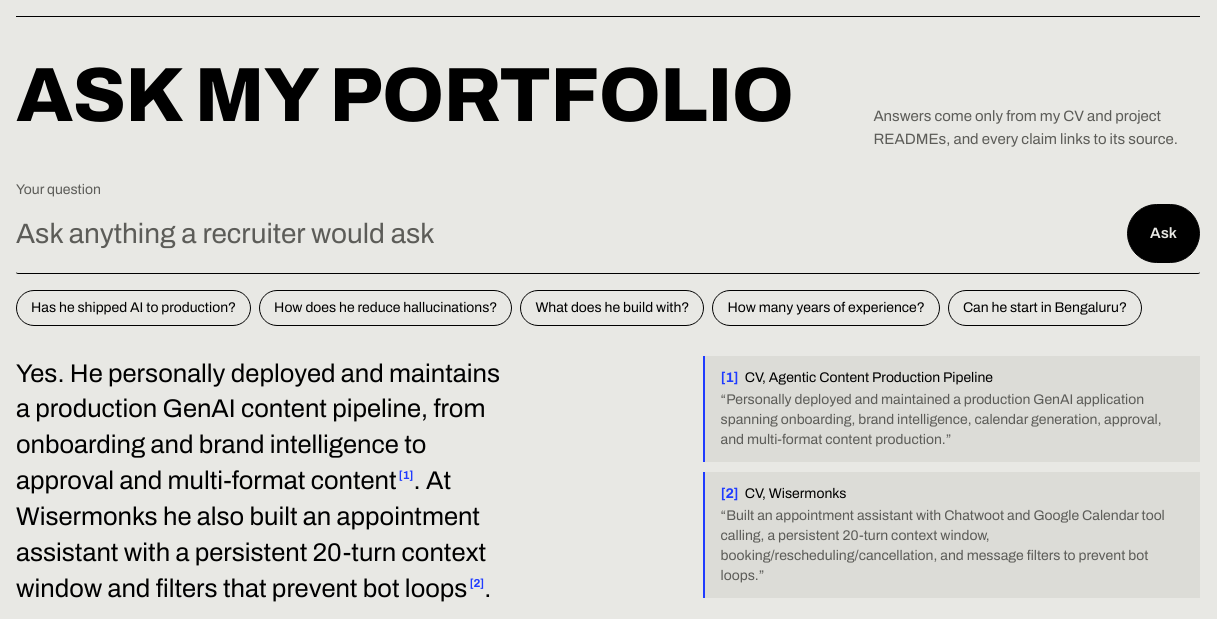
Ask my portfolio › shows the fallback and no sources for an unknown question
Type "What is his favourite colour?" into the field labelled "Your question" at (567, 233), box [16,204,1117,263]
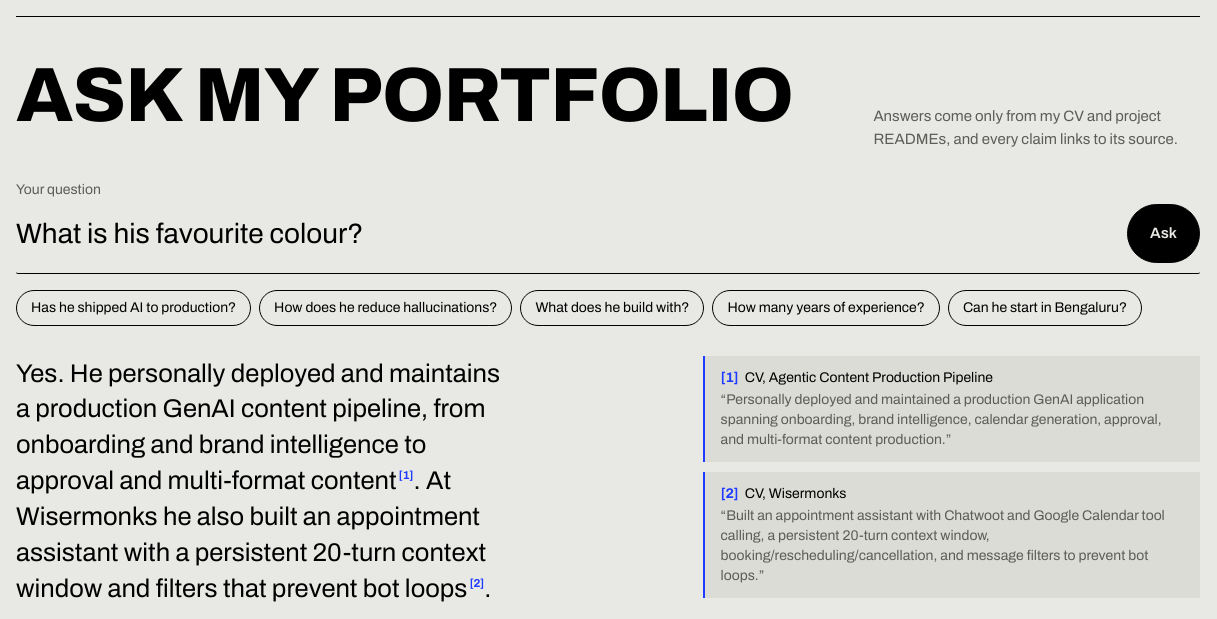
Click the button "Ask" at (1164, 233), box [1127,204,1200,263]
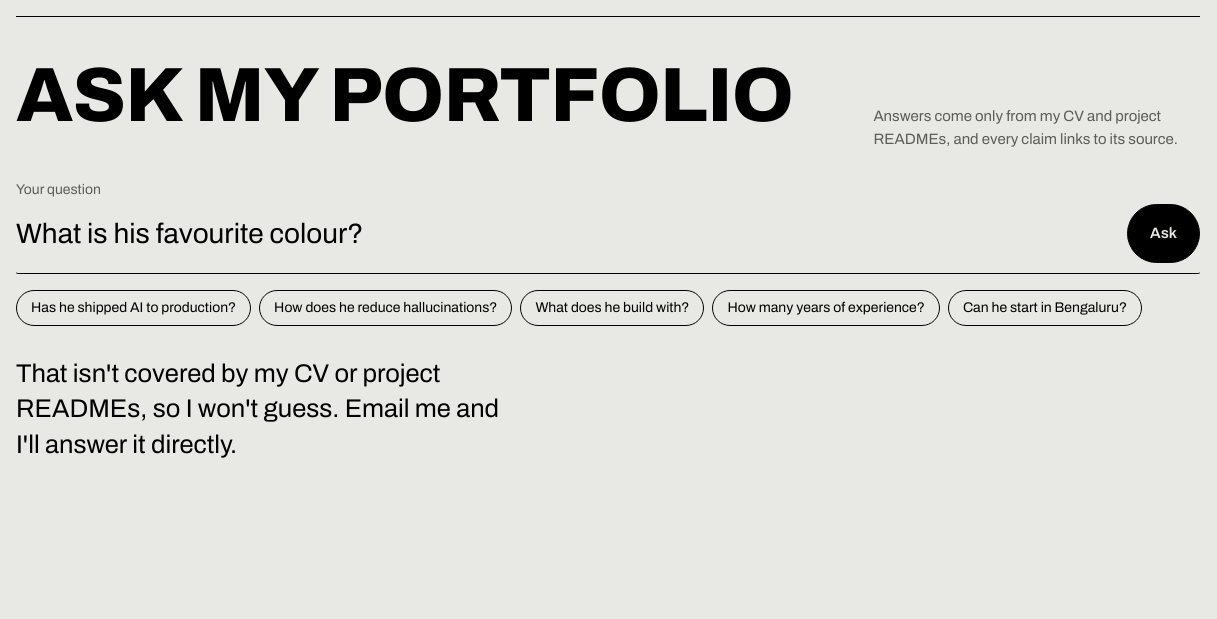
expect the text with test id "ask-answer" shows "That isn't covered by my CV or project READMEs, so I won't guess. Email me and I'll answer it directly.": met, box [16,360,499,458]
